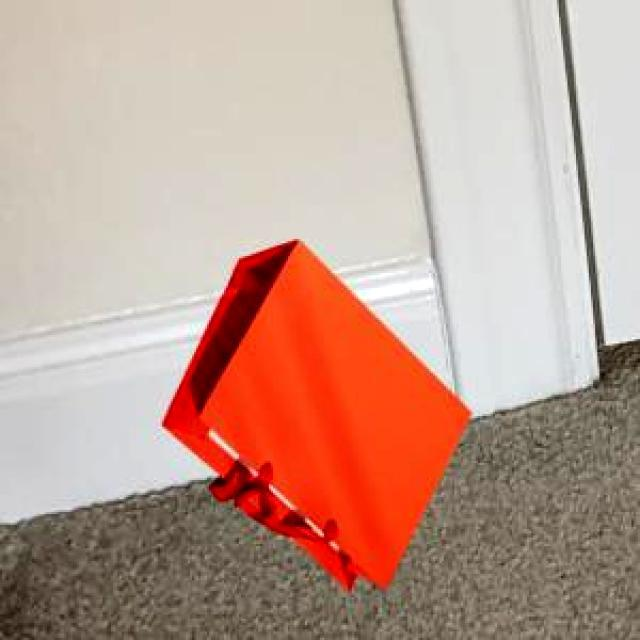Paper_Bag: (158, 238, 468, 588)
